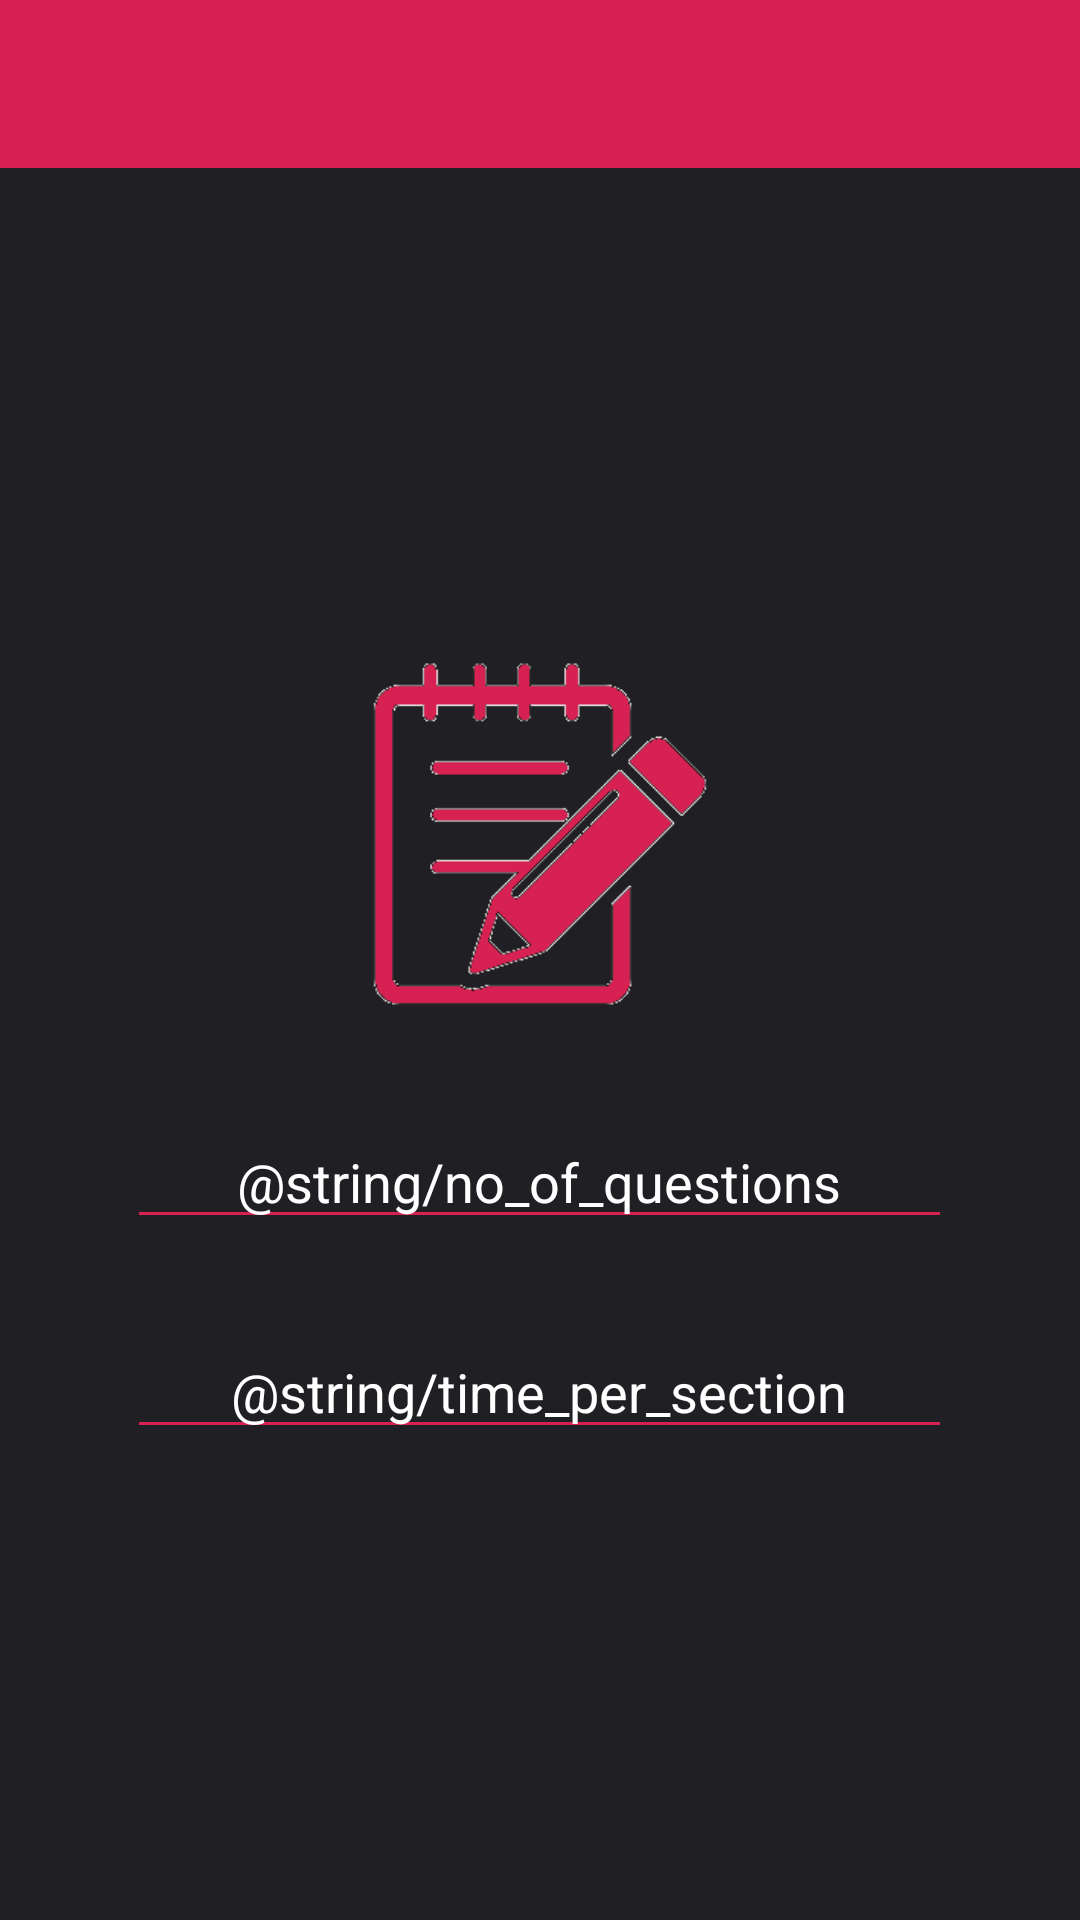

Locate icon controls on the screen. Image size 1080 × 1920, boxes as (x1, y1, x2, y2).
questn paper: (373, 663, 707, 1005)
